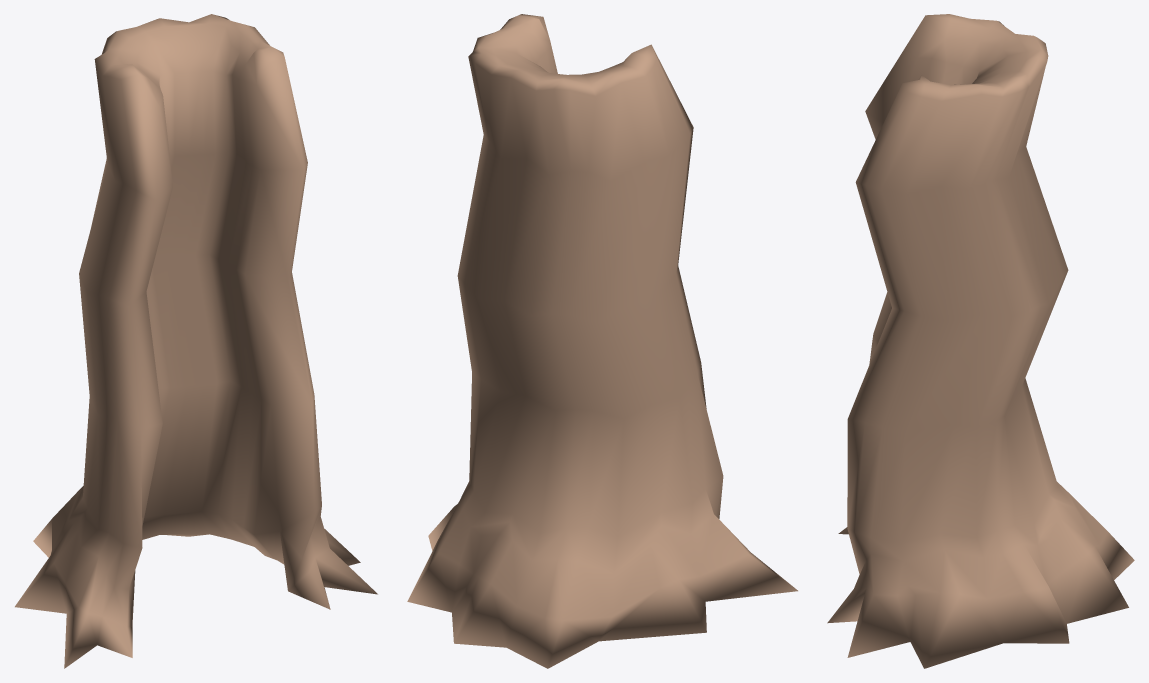
Rendered from RunThwoughTwee_01fbx.fbx.
3 views of the same model, side by side, from view 1: azimuth 30°, elevation 25°; view 2: azimuth 150°, elevation 25°; view 3: azimuth 270°, elevation 25° (orthographic).
Parts seen in each view (by area): view 1: Circle; view 2: Circle; view 3: Circle.
Part boxes in pixels (<box>): Circle: <box>15,14,377,668</box>; Circle: <box>407,14,797,668</box>; Circle: <box>827,14,1134,668</box>.
Bounding box in the file's own units: 362 × 573 × 289.
